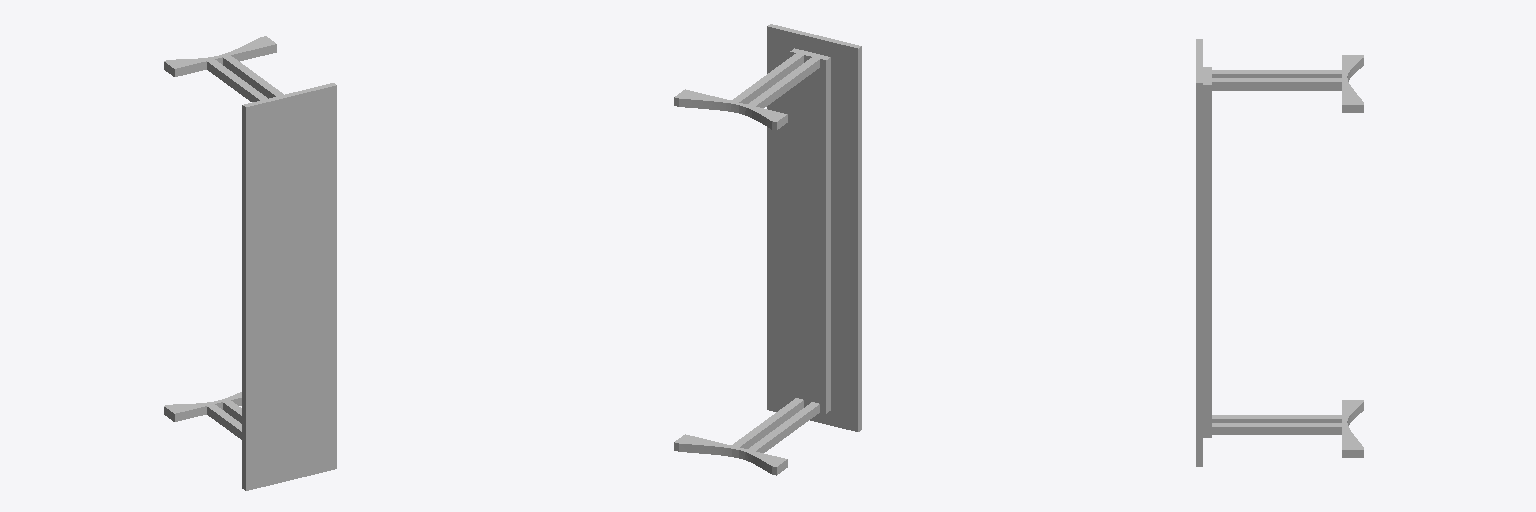
Rendered from lab_table.obj.
3 views of the same model, side by side, from view 1: azimuth 30°, elevation 25°; view 2: azimuth 150°, elevation 25°; view 3: azimuth 270°, elevation 25° (orthographic).
Visible parts, largest first — view 1: Body1; view 2: Body1; view 3: Body1.
Boxes of the visible parts, x1,y1,x2,y2 form: Body1: [164, 36, 336, 490]; Body1: [674, 24, 861, 475]; Body1: [1196, 39, 1363, 466].
Bounding box in the file's own units: 518 × 1825 × 723.